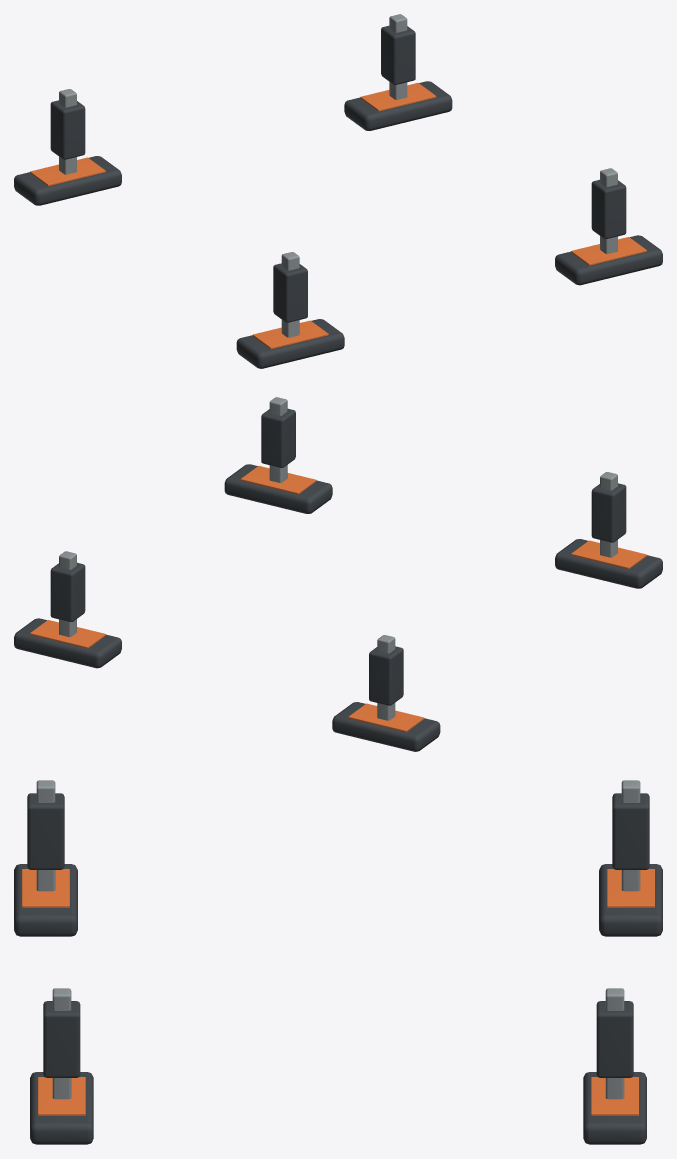
File: SM_FrontierSupplies_Gear.fbx
3 renders of one model, top to bottom at view 1: azimuth 30°, elevation 25°; view 2: azimuth 150°, elevation 25°; view 3: azimuth 270°, elevation 25°, orthographic. The views are drawn at different scales.
Visible parts, largest first — view 1: SM_FrontierSupplies_Gear.001; view 2: SM_FrontierSupplies_Gear.001; view 3: SM_FrontierSupplies_Gear.001.
Part boxes in pixels (x1,y1,x2,y2): SM_FrontierSupplies_Gear.001: (14, 14, 662, 368); SM_FrontierSupplies_Gear.001: (14, 397, 662, 751); SM_FrontierSupplies_Gear.001: (14, 780, 662, 1144).
Bounding box in the file's own units: 23500 × 24400 × 5300.
